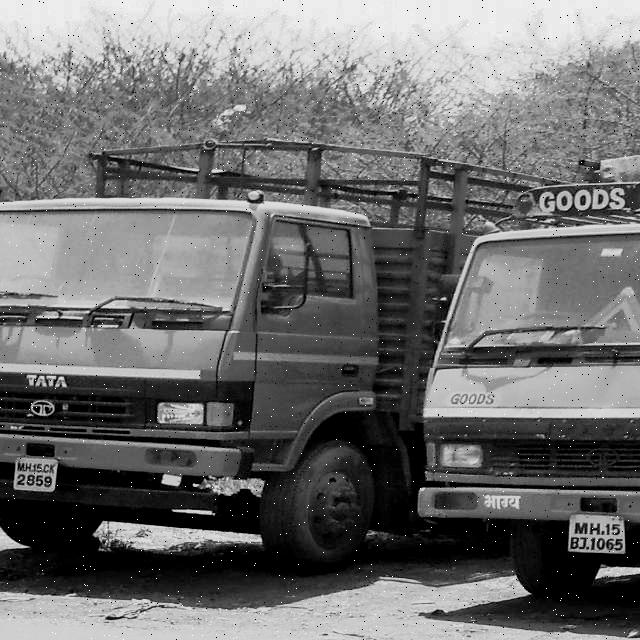HCV: (0, 197, 373, 563), (426, 183, 640, 640)
